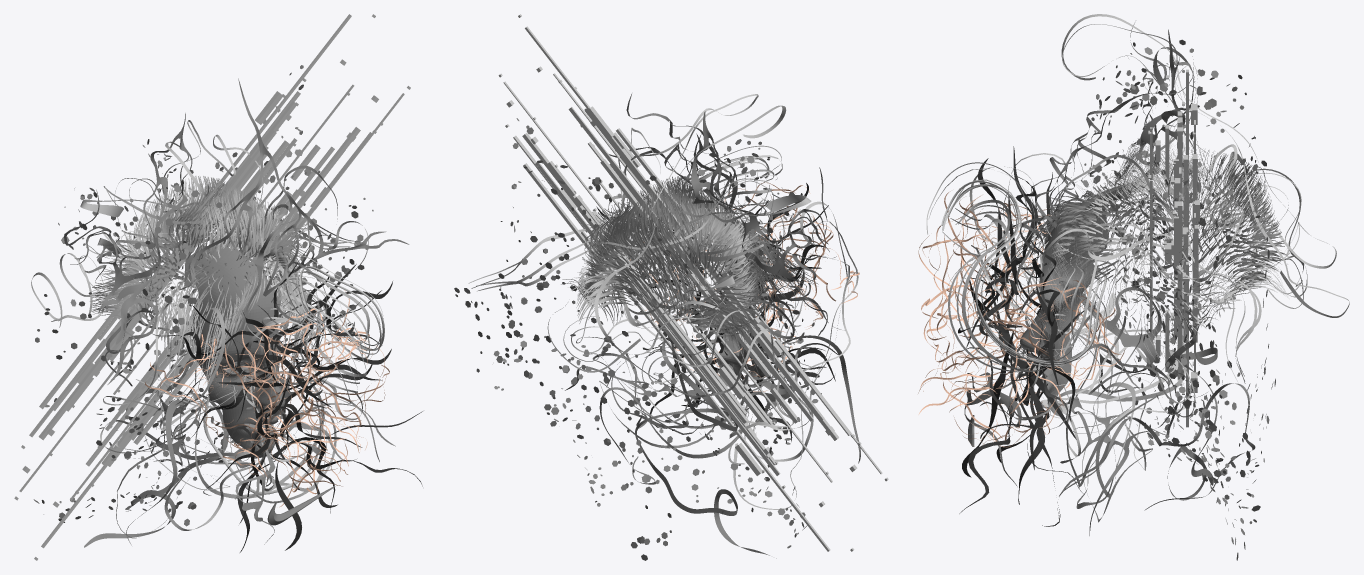
The picture shows the model from 3 angles, left to right: view 1: azimuth 30°, elevation 25°; view 2: azimuth 150°, elevation 25°; view 3: azimuth 270°, elevation 25°; orthographic projection. The views are drawn at different scales.
Visible parts, largest first — view 1: T2C_Ke, T2C_Dian, polySurface4748, polySurface4750, T2C_ChuJiaoB1, T2C_ChuJiaoB3, polySurface4756, T2C_ChuJiaoB2, polySurface4751, polySurface4764, BoxTiao62, polySurface4758 (+28 smaller); view 2: T2C_Dian, polySurface4748, polySurface4756, BoxTiao11, BoxTiao51, BoxTiao25, BoxTiao22, polySurface4783, polySurface4750, T2C_Ke, BoxTiao65, BoxTiao62 (+18 smaller); view 3: T2C_Dian, T2C_Ke, T2C_ChuJiaoB1, T2C_ChuJiaoB3, polySurface4750, T2C_ChuJiaoB4, polySurface4748, polySurface4751, polySurface4749, polySurface4756, polySurface4767, polySurface4783 (+24 smaller).
Boxes of the visible parts, <box> form: T2C_Ke: <box>184,245,294,458</box>; T2C_Dian: <box>33,65,373,526</box>; polySurface4748: <box>64,113,192,384</box>; polySurface4750: <box>179,78,409,330</box>; T2C_ChuJiaoB1: <box>212,308,389,449</box>; T2C_ChuJiaoB3: <box>222,388,367,507</box>; polySurface4756: <box>84,337,228,547</box>; T2C_ChuJiaoB2: <box>145,334,291,452</box>; polySurface4751: <box>126,374,186,545</box>; polySurface4764: <box>164,307,264,530</box>; BoxTiao62: <box>98,14,351,340</box>; polySurface4758: <box>159,371,324,498</box>; T2C_Dian: <box>454,118,821,560</box>; polySurface4748: <box>691,111,845,330</box>; polySurface4756: <box>635,337,776,558</box>; BoxTiao11: <box>535,162,780,475</box>; BoxTiao51: <box>568,107,813,421</box>; BoxTiao25: <box>577,205,748,423</box>; BoxTiao22: <box>581,231,830,551</box>; polySurface4783: <box>594,105,786,354</box>; polySurface4750: <box>609,94,773,239</box>; T2C_Ke: <box>686,212,757,379</box>; BoxTiao65: <box>600,159,771,377</box>; BoxTiao62: <box>525,26,774,346</box>; T2C_Dian: <box>1080,39,1275,560</box>; T2C_Ke: <box>1020,181,1145,416</box>; T2C_ChuJiaoB1: <box>918,191,1003,390</box>; T2C_ChuJiaoB3: <box>918,327,1066,447</box>; polySurface4750: <box>1019,56,1193,267</box>; T2C_ChuJiaoB4: <box>991,277,1125,389</box>; polySurface4748: <box>1108,23,1194,218</box>; polySurface4751: <box>1015,287,1161,392</box>; polySurface4749: <box>1047,392,1207,535</box>; polySurface4756: <box>1165,309,1217,500</box>; polySurface4767: <box>1062,24,1349,317</box>; polySurface4783: <box>1061,14,1336,268</box>.
Bounding box in the file's own units: 0.4111 × 0.4902 × 0.3347.
